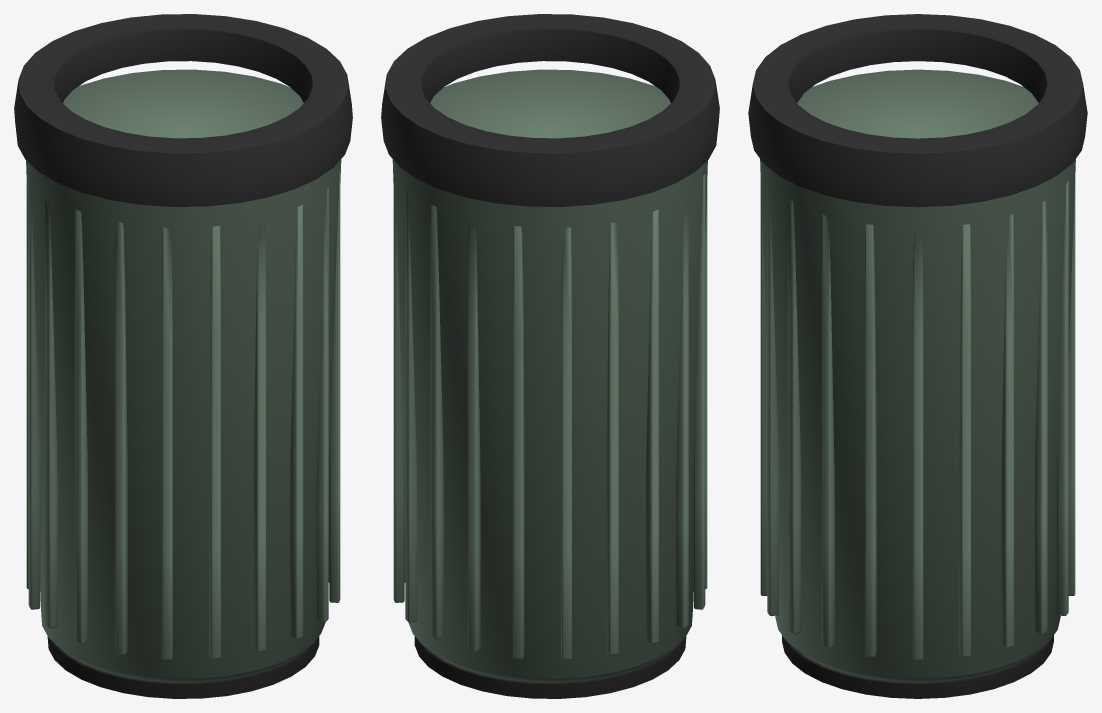
Rendered from bin.glb.
3 views of the same model, side by side, from view 1: azimuth 30°, elevation 25°; view 2: azimuth 150°, elevation 25°; view 3: azimuth 270°, elevation 25° (orthographic).
Parts seen in each view (by area): view 1: p_bin; view 2: p_bin; view 3: p_bin.
Part boxes in pixels (<box>): p_bin: <box>14,14,352,698</box>; p_bin: <box>381,14,719,698</box>; p_bin: <box>748,14,1087,698</box>.
Bounding box in the file's own units: 0.524 × 0.95 × 0.524.
